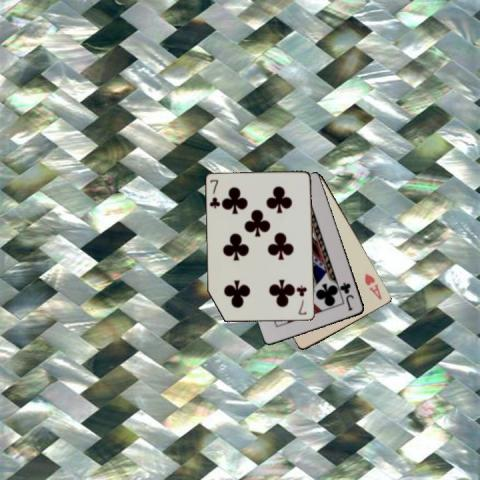7c: (207, 177, 222, 210), (295, 282, 308, 316)
Ah: (362, 271, 383, 301)
Jc: (338, 279, 355, 312)
